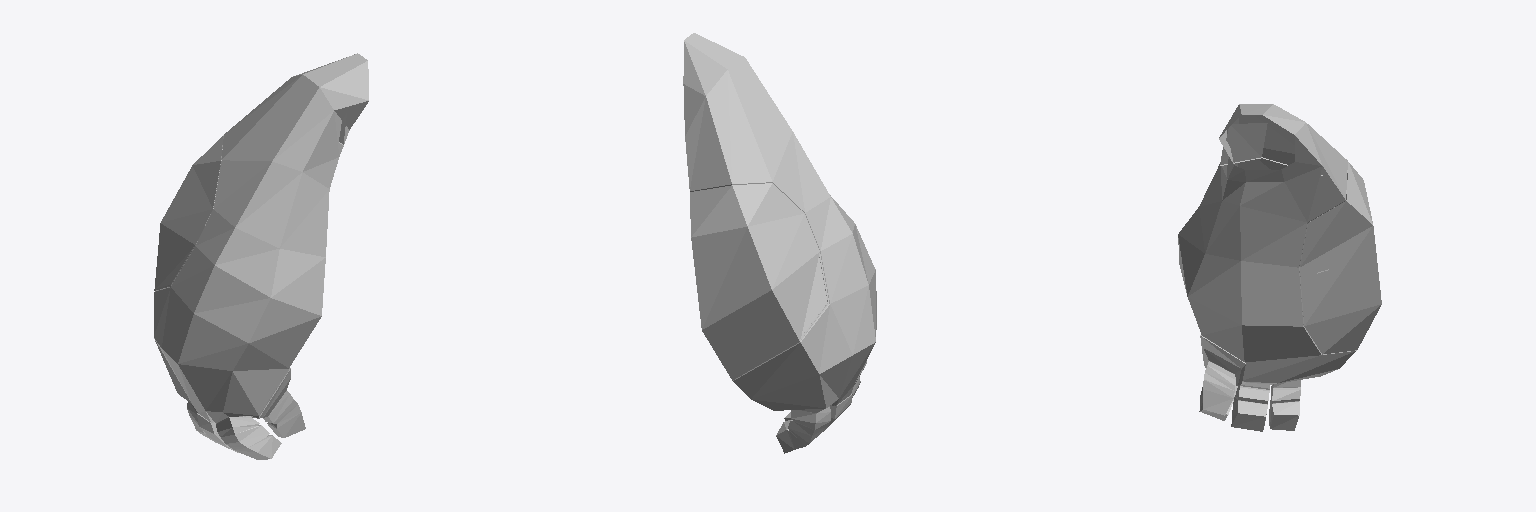
File: baymax_rightarm.obj
3 renders of one model, left to right at view 1: azimuth 30°, elevation 25°; view 2: azimuth 150°, elevation 25°; view 3: azimuth 270°, elevation 25°, orthographic.
Parts seen in each view (by area): view 1: Bigmax_White_OBJ.003; view 2: Bigmax_White_OBJ.003; view 3: Bigmax_White_OBJ.003.
Part boxes in pixels (x1,y1,x2,y2): Bigmax_White_OBJ.003: (154, 53, 368, 459); Bigmax_White_OBJ.003: (683, 33, 876, 453); Bigmax_White_OBJ.003: (1178, 104, 1381, 431).
Size of the model in its own units: 24.76 by 47.44 by 23.49.